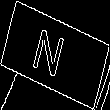N_S: (35, 24, 75, 86)
